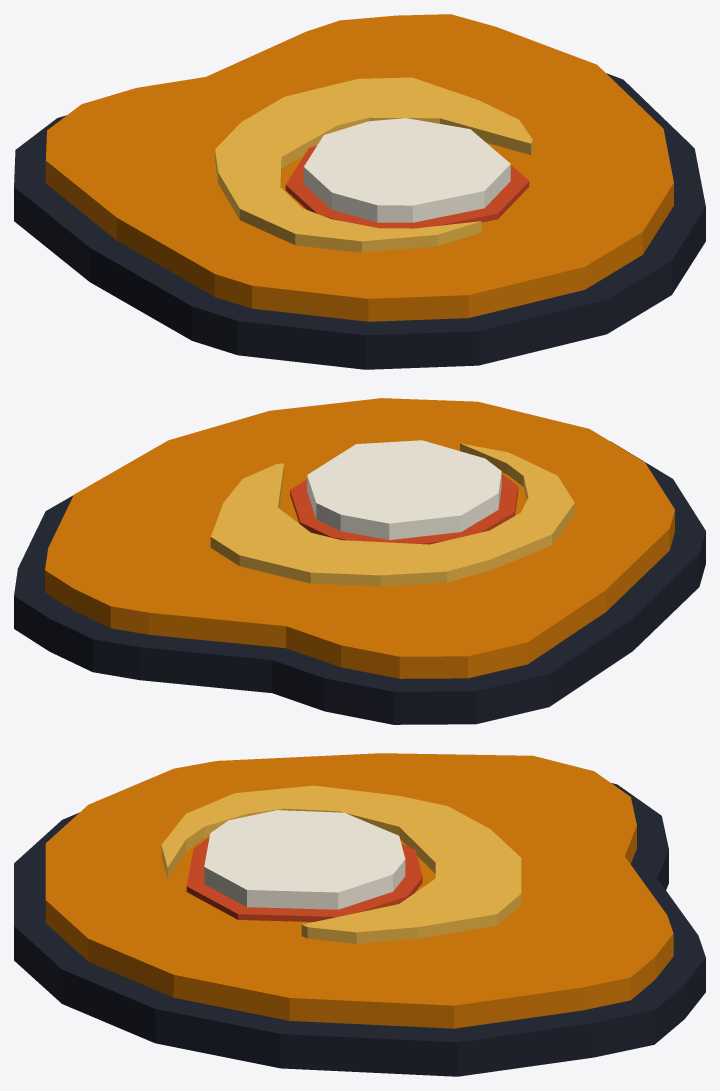
File: flame.fbx
The picture shows the model from 3 angles, top to bottom: view 1: azimuth 30°, elevation 25°; view 2: azimuth 150°, elevation 25°; view 3: azimuth 270°, elevation 25°; orthographic projection. The views are drawn at different scales.
Parts seen in each view (by area): view 1: flame; view 2: flame; view 3: flame.
Part boxes in pixels (bbox=[...]): flame: bbox=[14, 14, 705, 369]; flame: bbox=[14, 398, 705, 724]; flame: bbox=[14, 753, 705, 1076].
Size of the model in its own units: 1.04 by 0.14 by 1.09.
Materials: 1 (1 with a texture image).
